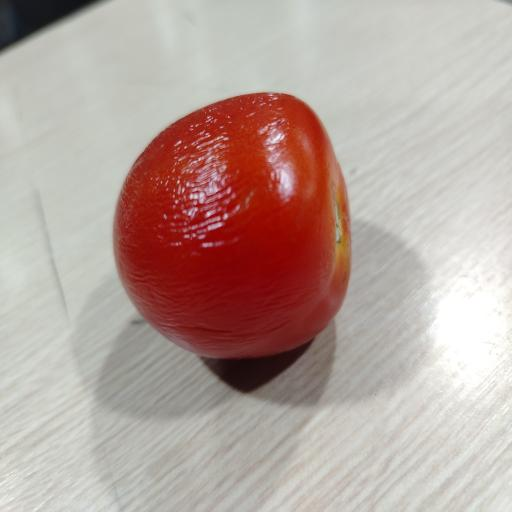spoiled: (114, 93, 351, 358)
